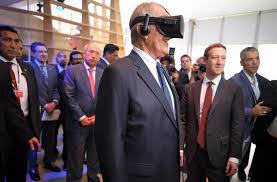oculus: (146, 13, 186, 41)
